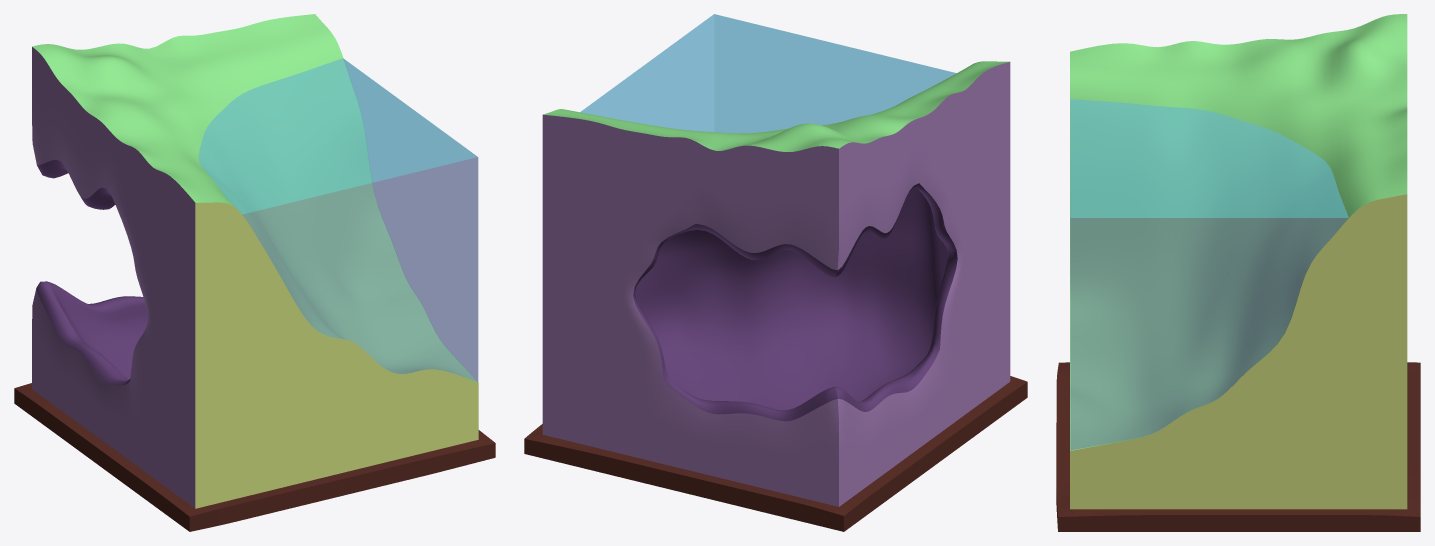
The model's file is diorama.fbx.
The picture shows the model from 3 angles, left to right: view 1: azimuth 30°, elevation 25°; view 2: azimuth 150°, elevation 25°; view 3: azimuth 270°, elevation 25°; orthographic projection. The views are drawn at different scales.
Parts seen in each view (by area): view 1: Aquarium, Cube; view 2: Aquarium, Cube; view 3: Aquarium, Cube.
Boxes of the visible parts, <box> form: Aquarium: <box>14,14,495,531</box>; Cube: <box>198,58,478,382</box>; Aquarium: <box>524,61,1027,531</box>; Cube: <box>580,14,956,133</box>; Aquarium: <box>1056,14,1420,531</box>; Cube: <box>1070,99,1348,450</box>.
Bounding box in the file's own units: 52.27 × 58.66 × 52.39.
